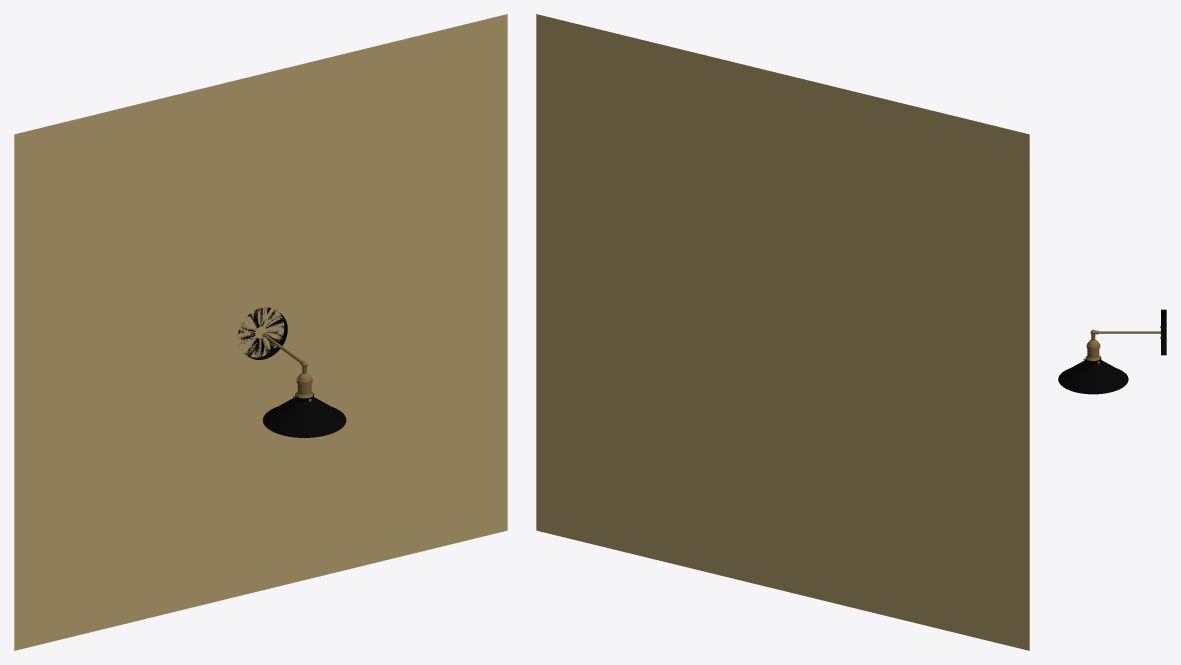
The model's file is wall_lamp_blender.glb.
3 views of the same model, side by side, from view 1: azimuth 30°, elevation 25°; view 2: azimuth 150°, elevation 25°; view 3: azimuth 270°, elevation 25° (orthographic). The views are drawn at different scales.
Parts seen in each view (by area): view 1: Plane_9, Circle.001_1, Circle.004_4; view 2: Plane_9; view 3: Circle.001_1, Circle_0, Circle.004_4.
Part boxes in pixels (x1,y1,x2,y2): Plane_9: (14,14,507,650); Circle.001_1: (262,392,346,437); Circle.004_4: (238,307,287,359); Plane_9: (536,14,1029,650); Circle.001_1: (1058,356,1128,394); Circle_0: (1086,326,1161,360); Circle.004_4: (1161,309,1166,355).
Bounding box in the file's own units: 20.88 × 20.88 × 4.73.
